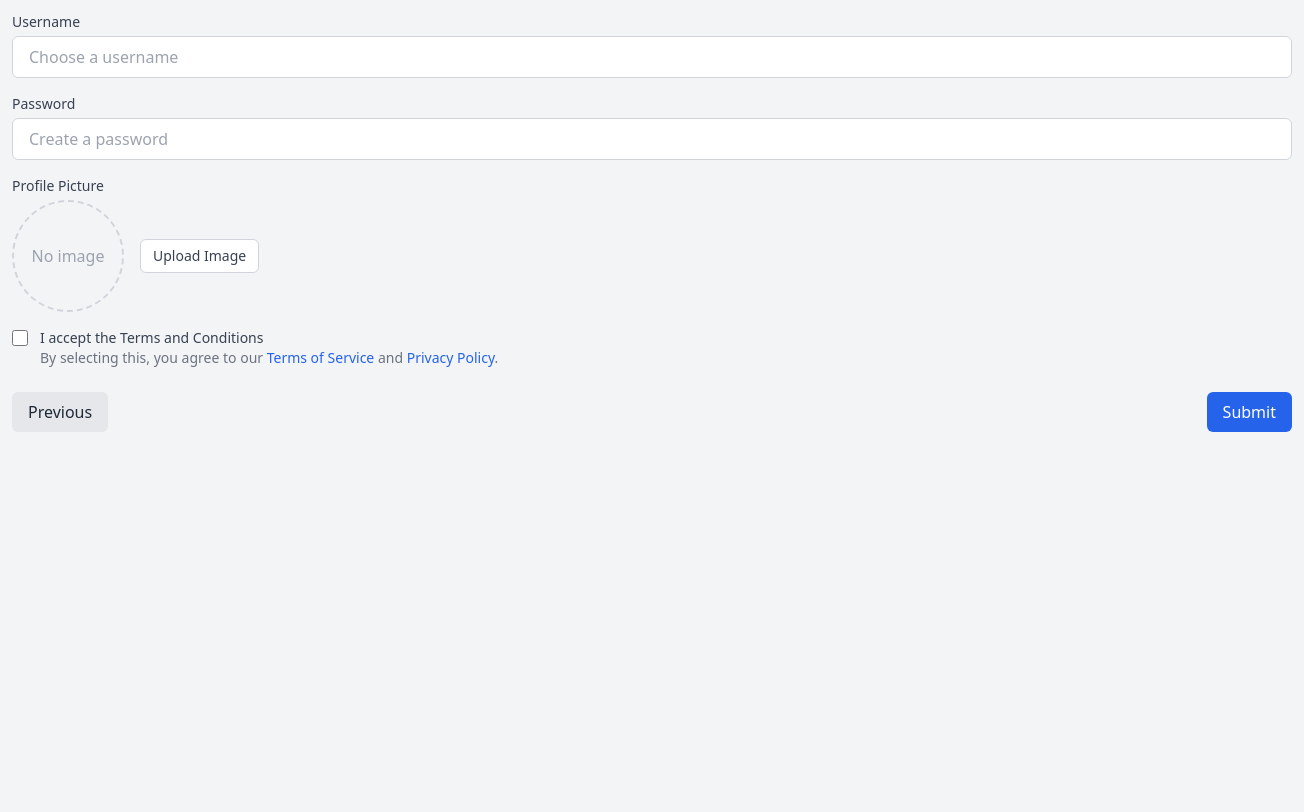
Test case: AccountSetupForm › waits for the username check and flags a taken name on the field
Type "admin" into the field labelled "Username" at (652, 57), box 12,36 -> 1292,78
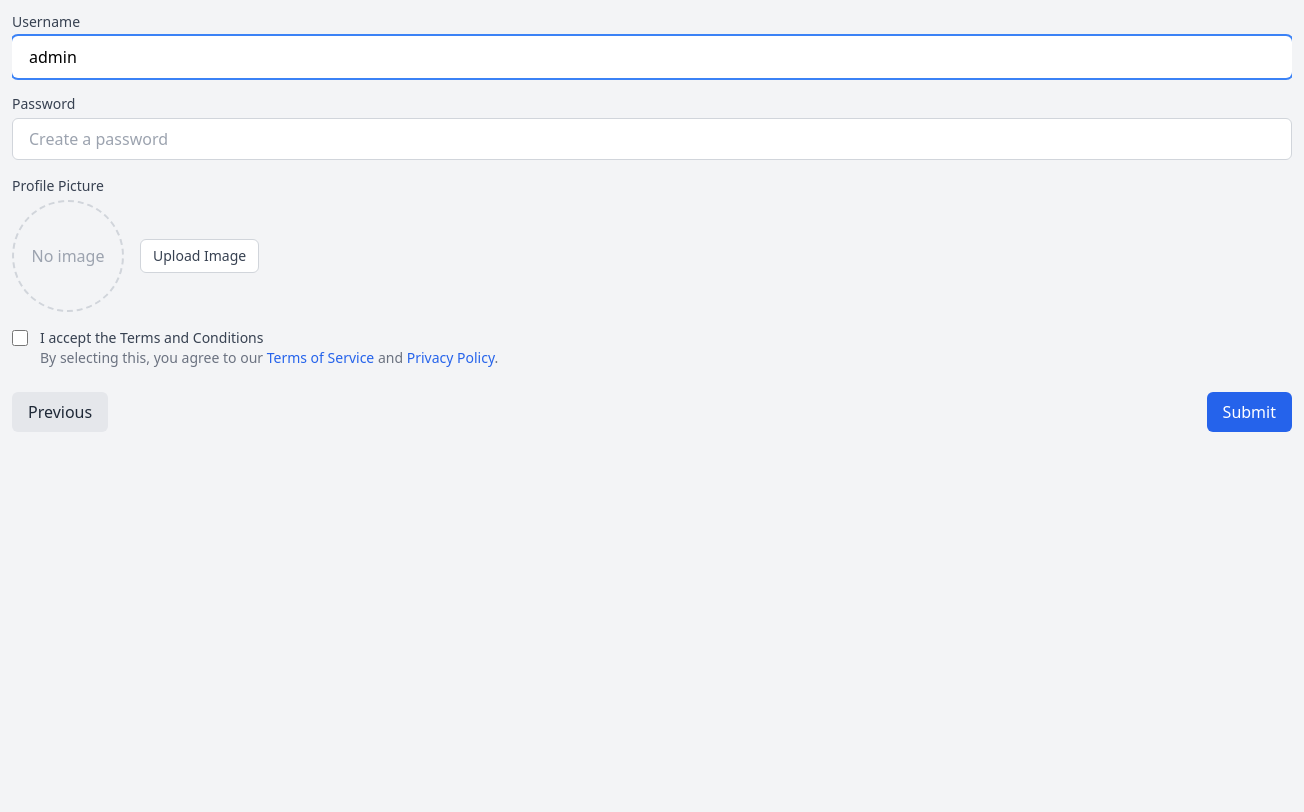
Type "Secret#123" into the password field labelled "Password" at (652, 139), box 12,118 -> 1292,160
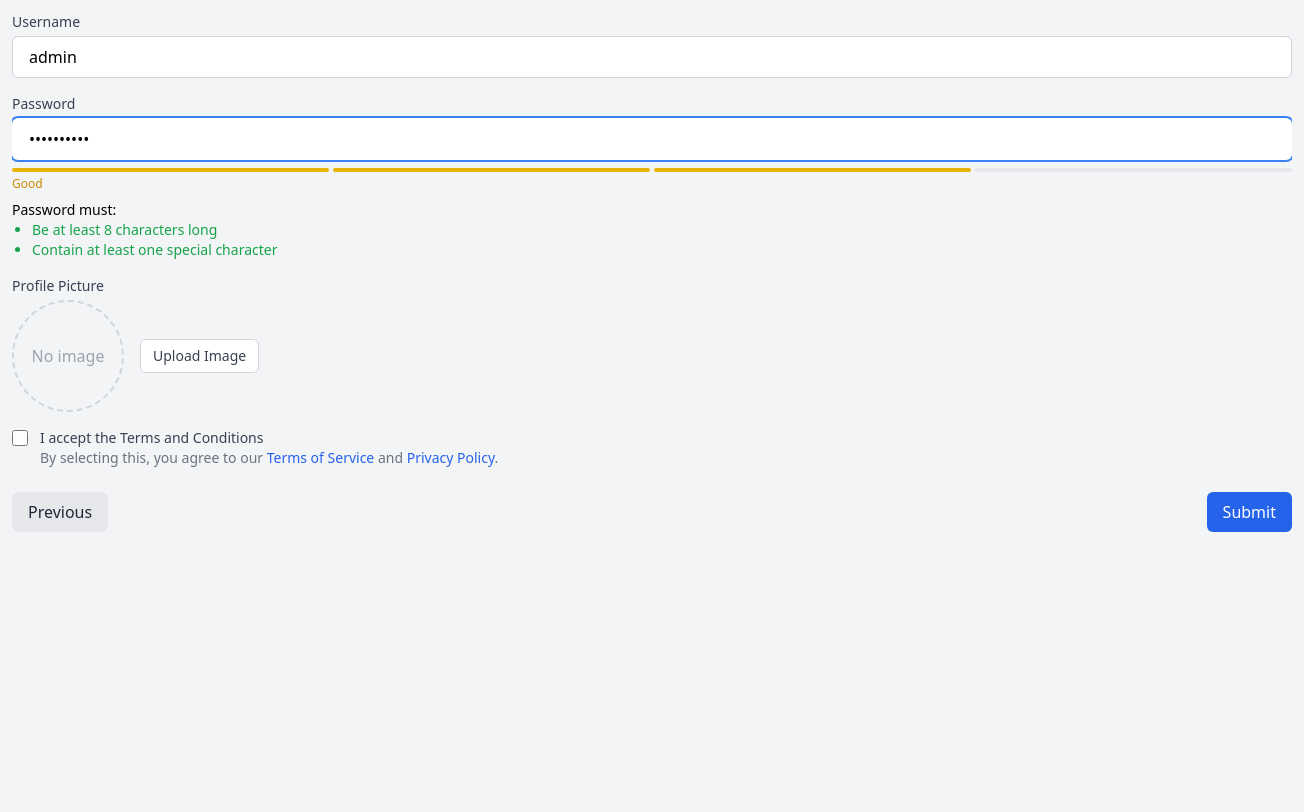
Click the checkbox labelled "I accept the Terms and Conditions" at (20, 438), box 12,430 -> 28,446
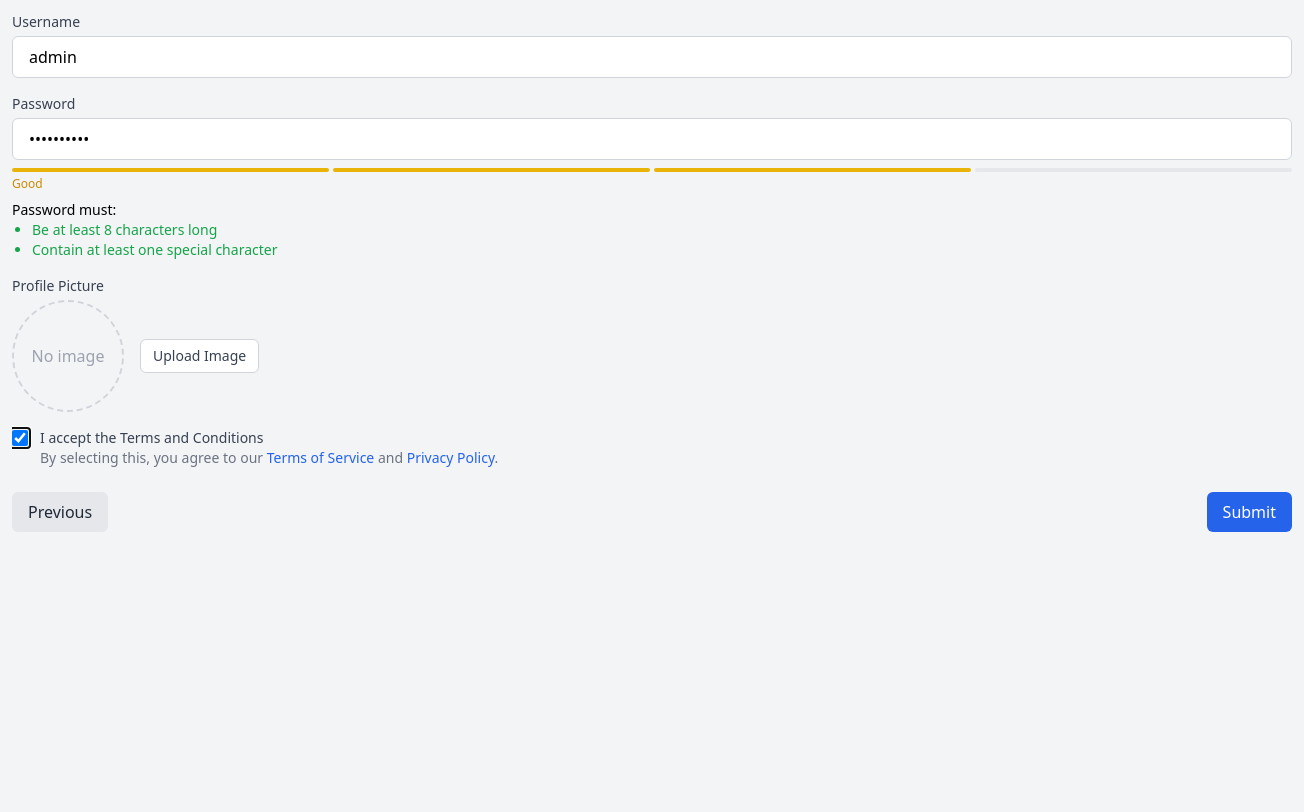
Click the button "Submit" at (1249, 512), box 1207,492 -> 1292,532
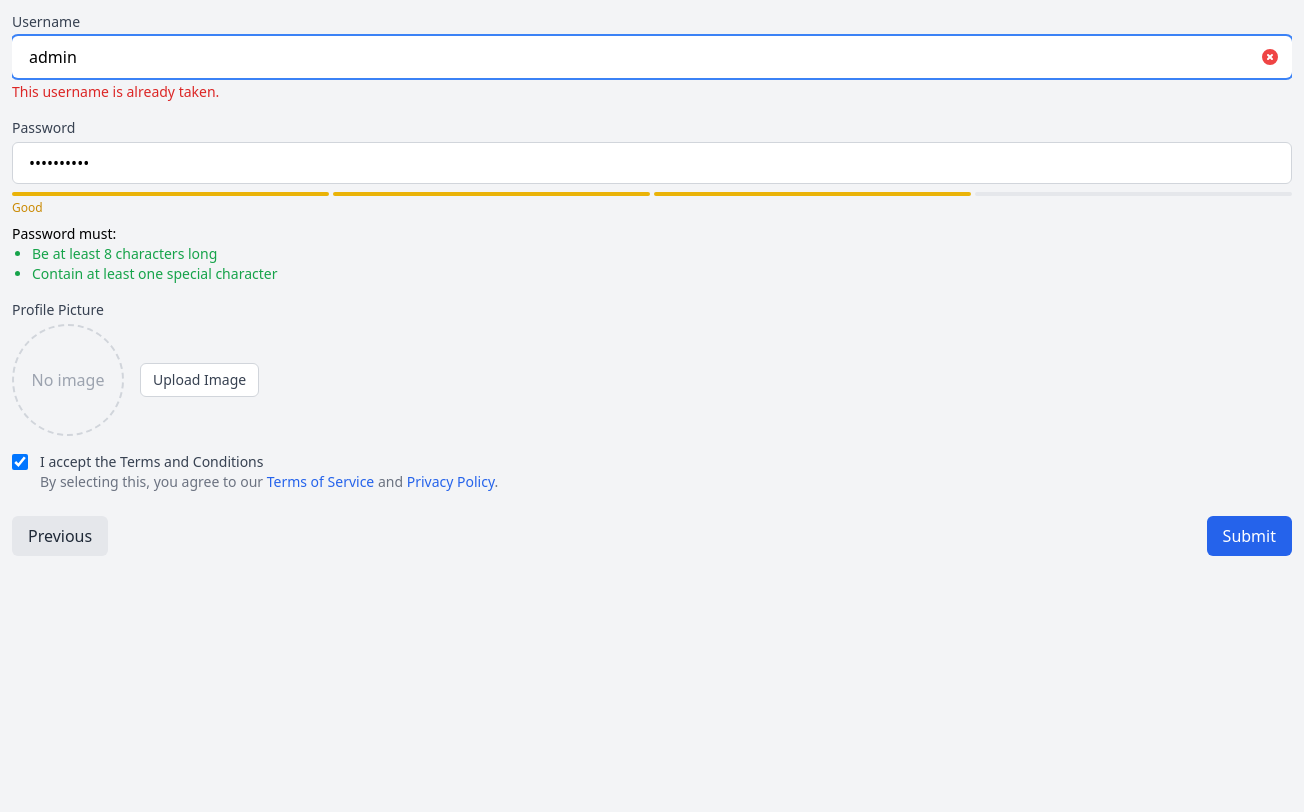
Now the text "This username is already taken." is shown, box 12,82 -> 219,101
